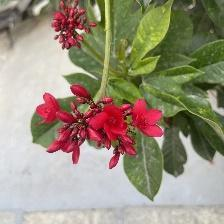jatropha: (91, 104, 129, 143), (131, 99, 166, 141)
